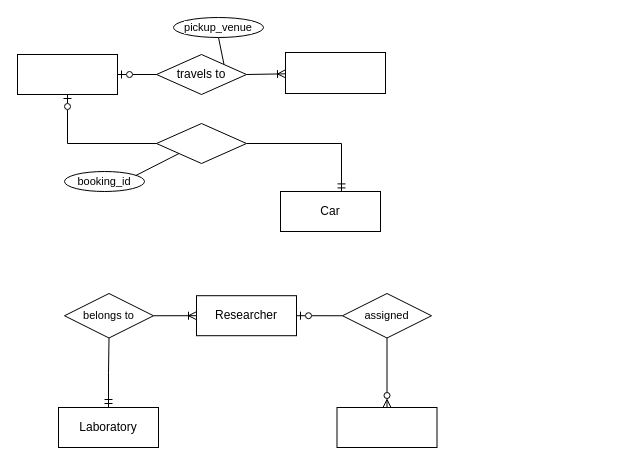
Image size: 635x465. Some labels were removed from this diagram. Each missing label, with the centre of its shape:
books: the point at 201,143
Device: the point at 386,427
Location: the point at 335,73
Passenger: the point at 67,74
